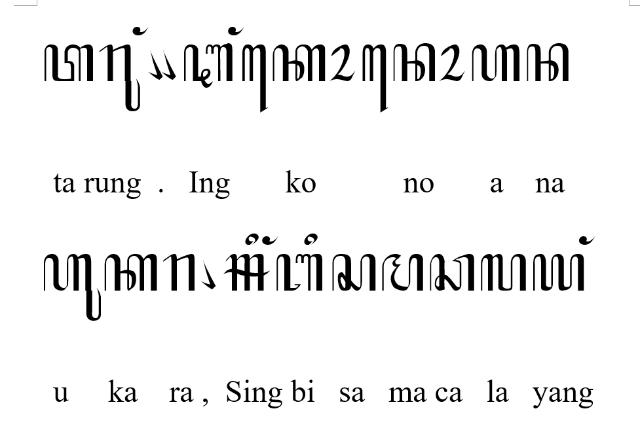I: (182, 43, 234, 90)
S: (222, 254, 270, 292)
b: (276, 254, 324, 293)
c: (430, 252, 474, 292)
e1: (242, 44, 268, 113), (362, 44, 388, 113)
h: (472, 44, 520, 82)
hu: (42, 253, 102, 321)
i: (245, 233, 259, 245), (304, 233, 318, 245)
k: (104, 252, 158, 292), (272, 44, 326, 82)
kom: (160, 48, 176, 80), (148, 49, 162, 80), (202, 259, 216, 289)
l: (480, 253, 528, 291)
m: (381, 252, 424, 292)
n: (526, 44, 570, 82), (393, 43, 435, 82)
ng: (132, 26, 148, 37), (262, 236, 278, 246), (228, 27, 245, 36), (579, 237, 595, 246)
o: (328, 44, 356, 82), (438, 44, 466, 82)
r: (162, 252, 195, 292)
ru: (99, 44, 141, 112)
s: (332, 254, 376, 292)
t: (44, 44, 94, 82)
y: (533, 254, 585, 293)
